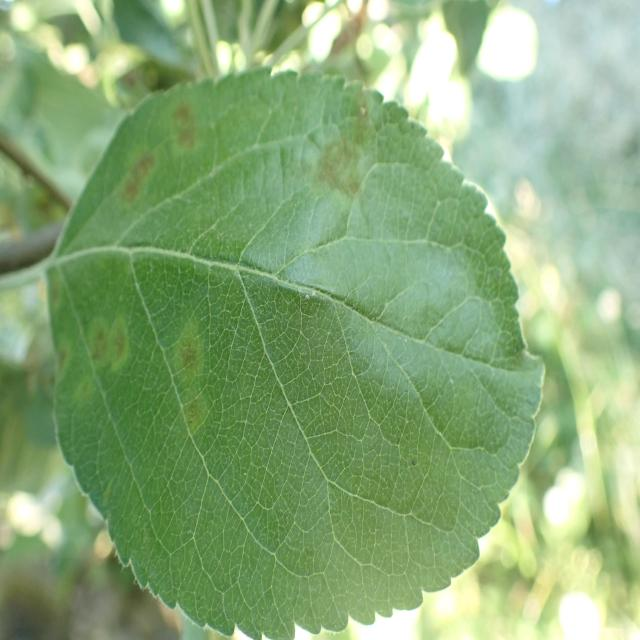scab: (49, 75, 509, 513)
